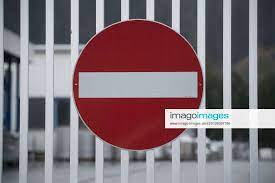No entry: (73, 19, 203, 151)
